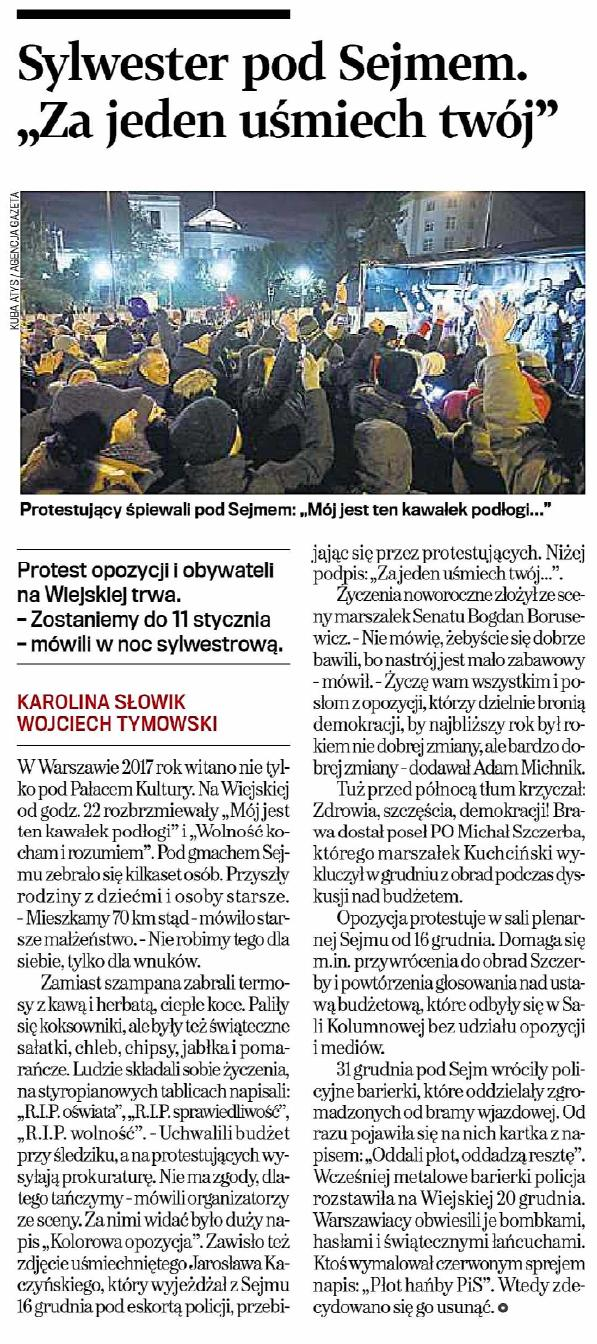author: (10, 684, 236, 739)
body: (304, 536, 593, 1323), (9, 750, 300, 1322)
caption: (15, 498, 561, 522)
image: (15, 186, 590, 499)
lead: (9, 552, 291, 660)
title: (9, 23, 580, 156)
